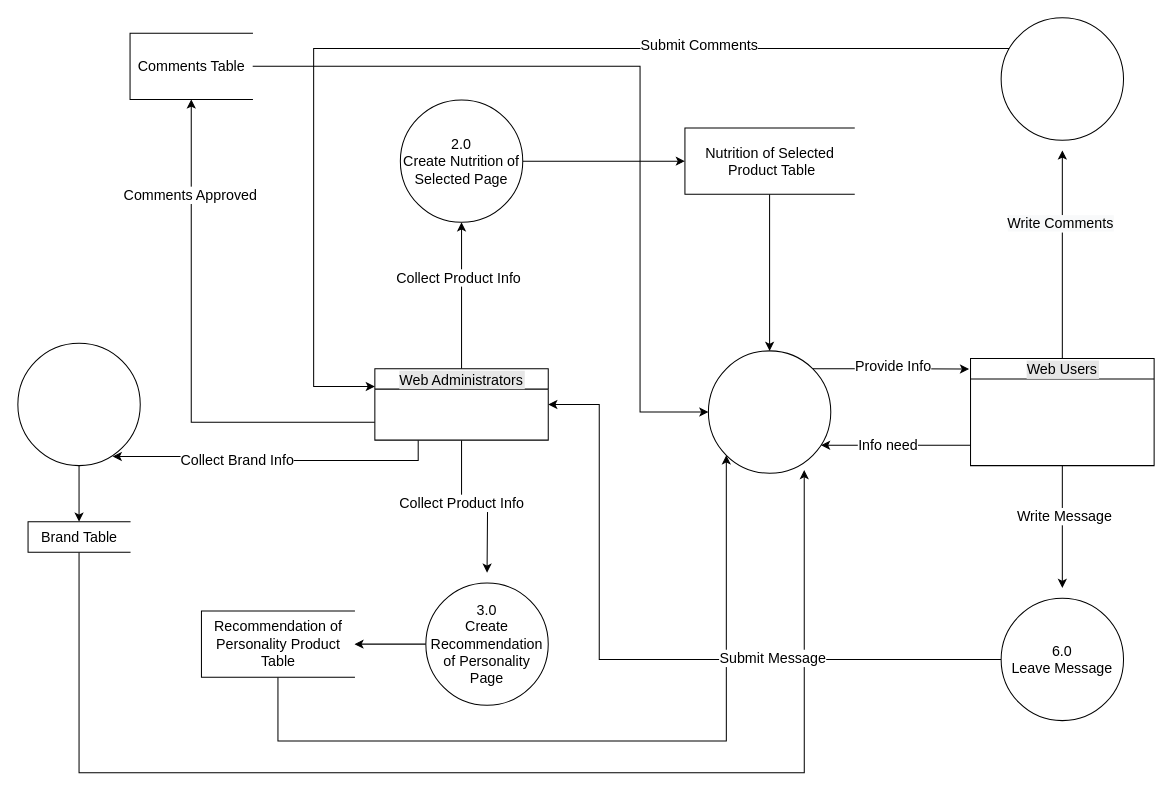
The diagram is 1172 pixels wide and 799 high, and some of its shapes have lost their labels. The centre of each missing label's shape, as x and y in pixels:
"1.0 Create Famous Brand Page" belongs at [78,404].
"4.0 Provide complete information" belongs at [769,411].
"5.0 Post Comments" belongs at [1062,78].
